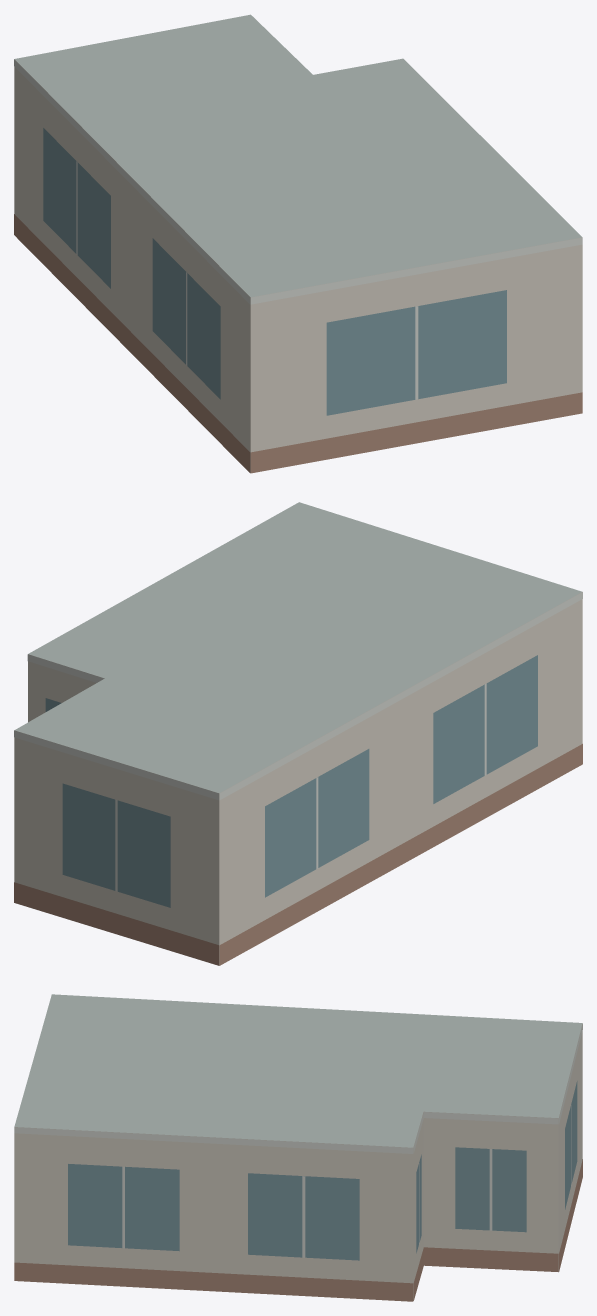
The model's file is survey-upis-32812783.glb.
3 views of the same model, one above another, from view 1: azimuth 30°, elevation 25°; view 2: azimuth 150°, elevation 25°; view 3: azimuth 270°, elevation 25° (orthographic). The views are drawn at different scales.
Visible parts, largest first — view 1: survey-upis-32812783.tmp; view 2: survey-upis-32812783.tmp; view 3: survey-upis-32812783.tmp.
Part boxes in pixels (bbox=[...]): survey-upis-32812783.tmp: bbox=[14, 14, 582, 473]; survey-upis-32812783.tmp: bbox=[14, 502, 582, 965]; survey-upis-32812783.tmp: bbox=[14, 994, 582, 1301].
Size of the model in its own units: 6.53 by 3.05 by 10.22.
